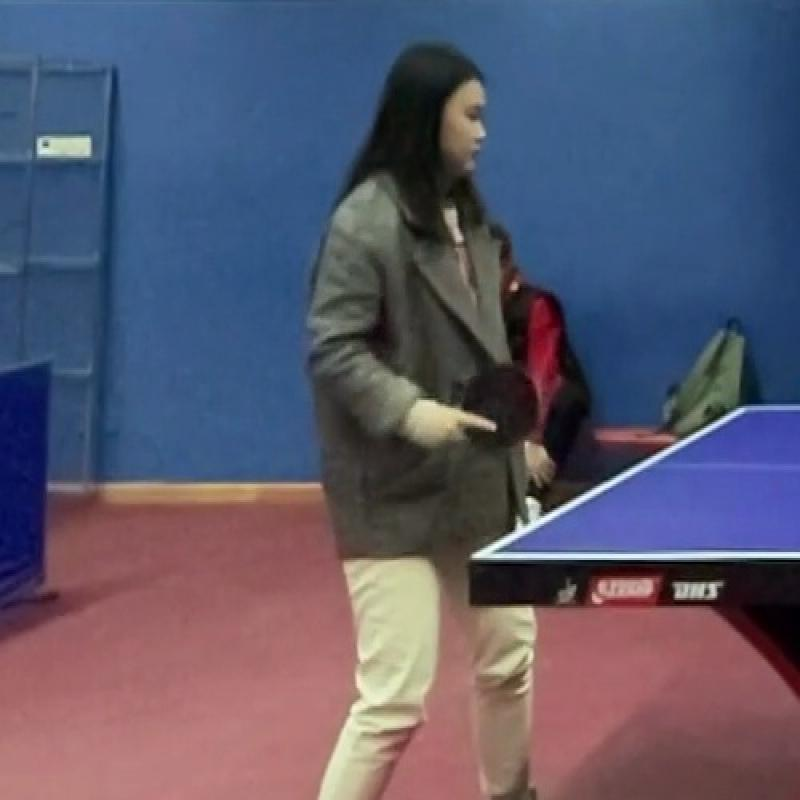bats: (453, 361, 554, 463)
